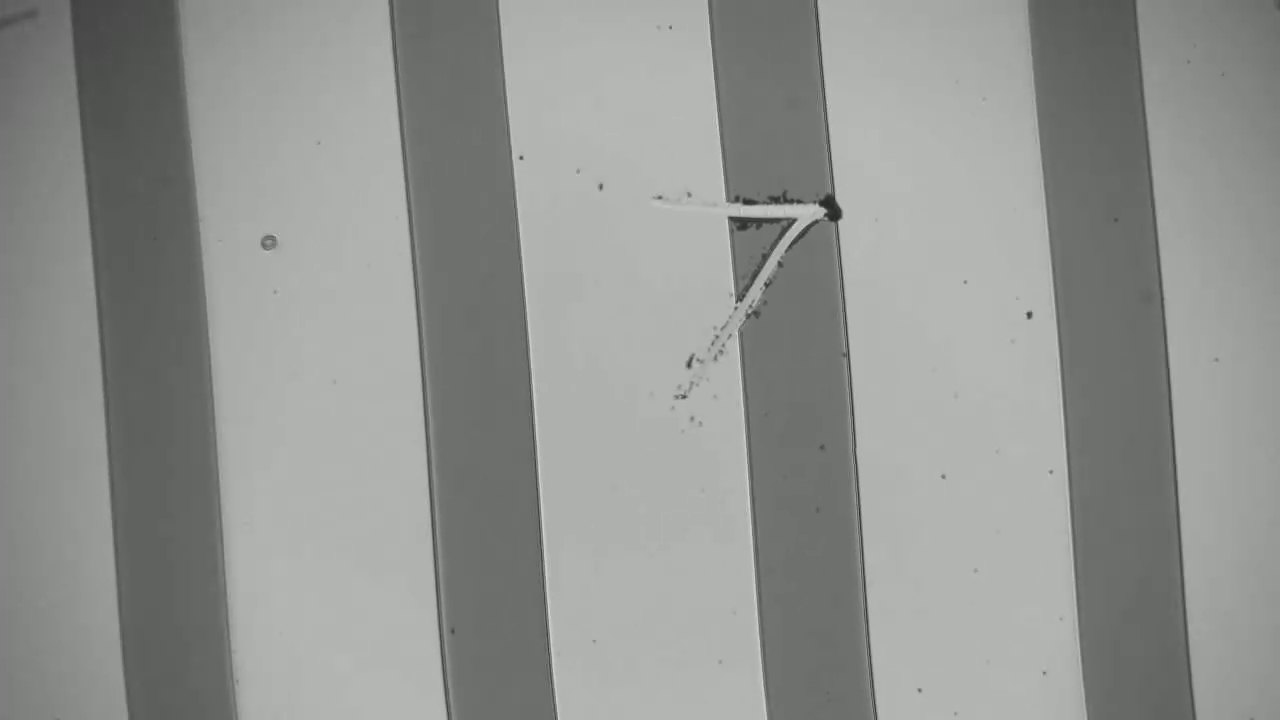Short_circuit: (698, 170, 865, 236)
